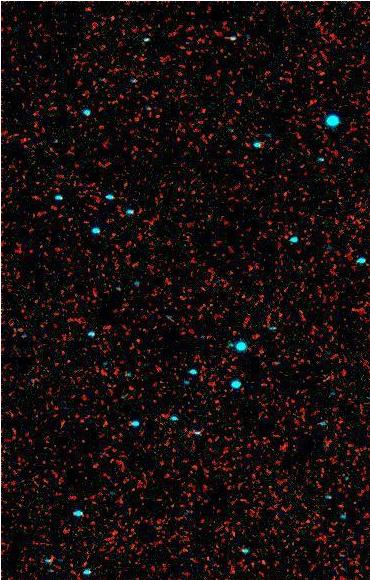star: (97, 2, 127, 32)
